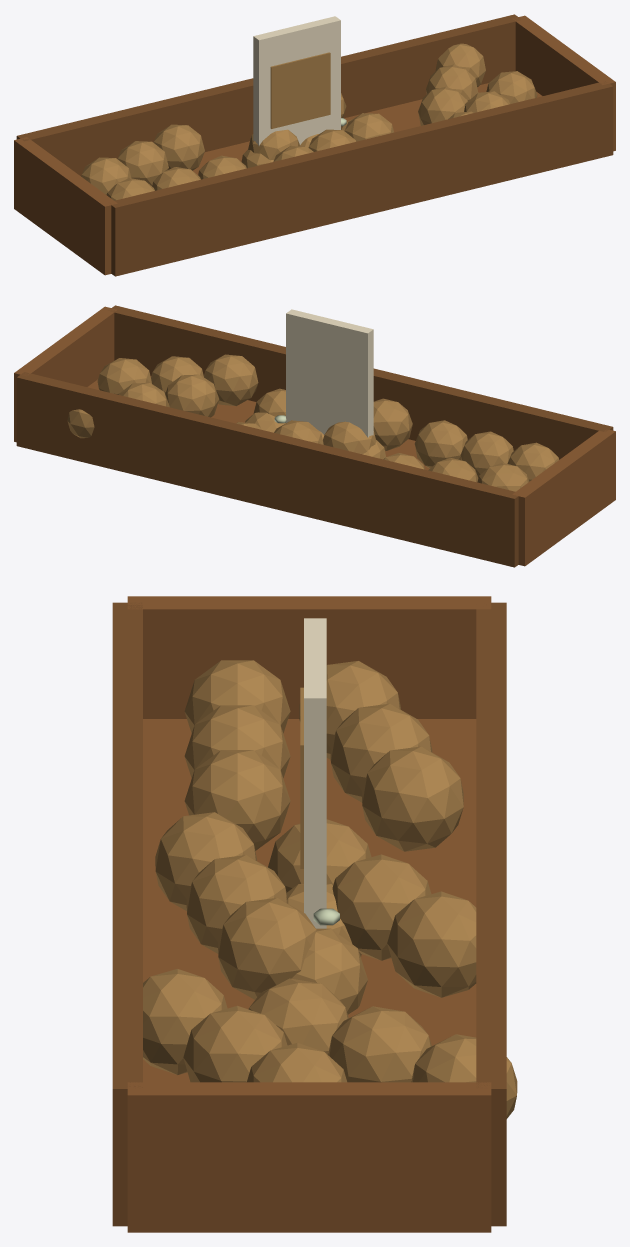
The model's file is Nut_Walnut.fbx.
The picture shows the model from 3 angles, top to bottom: view 1: azimuth 30°, elevation 25°; view 2: azimuth 150°, elevation 25°; view 3: azimuth 270°, elevation 25°; orthographic projection. The views are drawn at different scales.
Visible parts, largest first — view 1: Nut_Walnut__Stack, Nut_Walnut__Seed, Nut_Walnut; view 2: Nut_Walnut__Stack, Nut_Walnut__Seed, Nut_Walnut; view 3: Nut_Walnut__Stack, Nut_Walnut__Seed, Nut_Walnut.
Part boxes in pixels (x1=…): Nut_Walnut__Stack: x1=14, y1=14, x2=615, y2=276; Nut_Walnut__Seed: x1=253, y1=16, x2=340, y2=145; Nut_Walnut: x1=241, y1=119, x2=352, y2=168; Nut_Walnut__Stack: x1=14, y1=305, x2=615, y2=567; Nut_Walnut__Seed: x1=286, y1=309, x2=373, y2=437; Nut_Walnut: x1=245, y1=412, x2=385, y2=459; Nut_Walnut__Stack: x1=112, y1=596, x2=517, y2=1232; Nut_Walnut__Seed: x1=300, y1=618, x2=326, y2=928; Nut_Walnut: x1=286, y1=884, x2=367, y2=1014.
Bounding box in the file's own units: 0.3116 × 0.09 × 0.1069.
